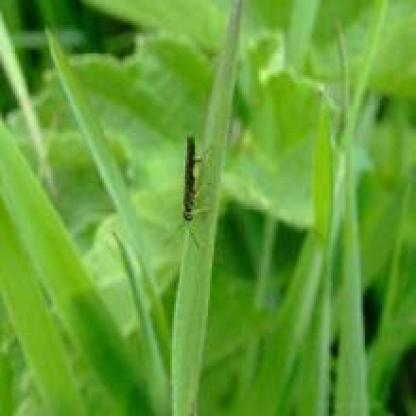sawfly: (176, 130, 216, 248)
